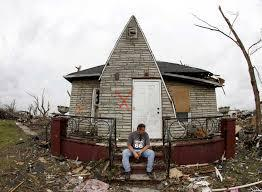major: (69, 16, 226, 166)
